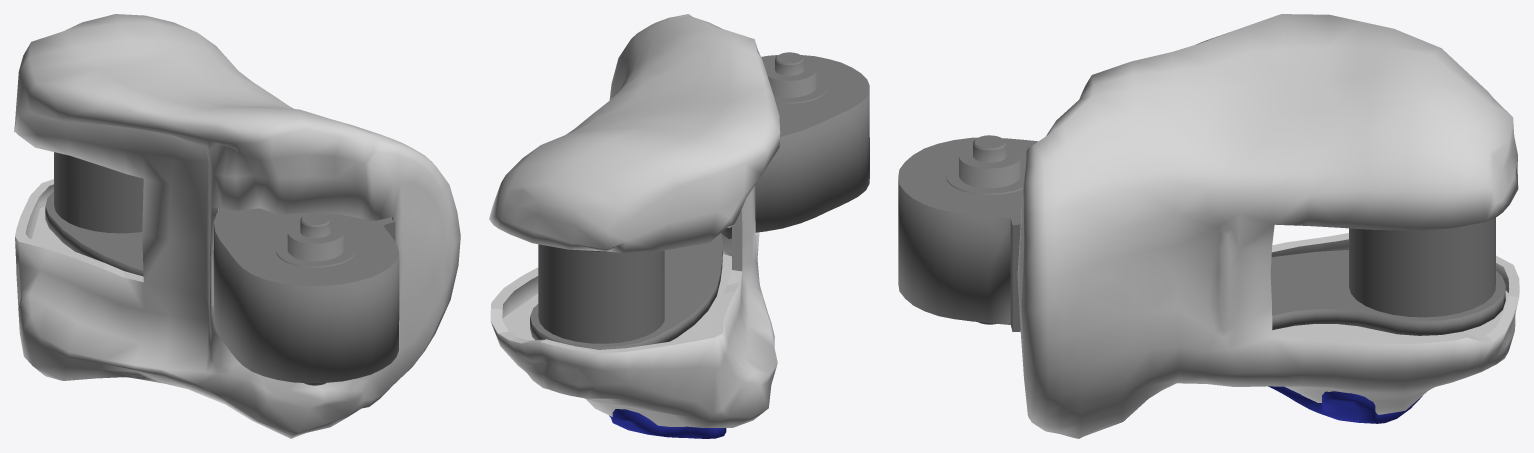
File: RKneePitch.dae
3 views of the same model, side by side, from view 1: azimuth 30°, elevation 25°; view 2: azimuth 150°, elevation 25°; view 3: azimuth 270°, elevation 25° (orthographic). The views are drawn at different scales.
Parts seen in each view (by area): view 1: root_024; view 2: root_024; view 3: root_024.
Part boxes in pixels (box(x1,y1,x2,y2)): root_024: box(14, 14, 460, 438); root_024: box(489, 14, 869, 438); root_024: box(898, 14, 1519, 438).
Bounding box in the file's own units: 89.68 × 148 × 93.29.
